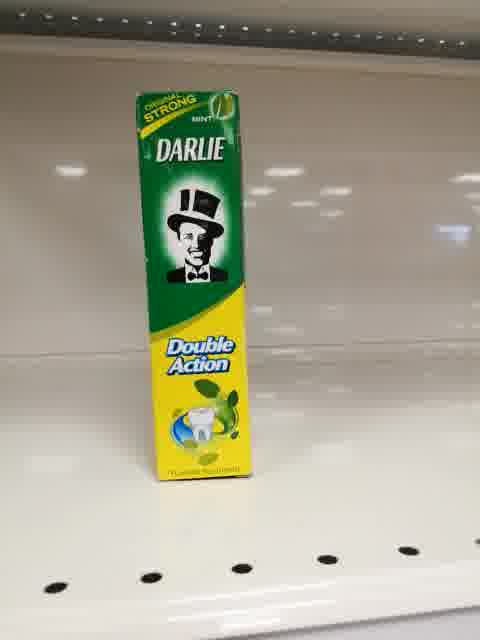toothpaste: (137, 90, 252, 483)
